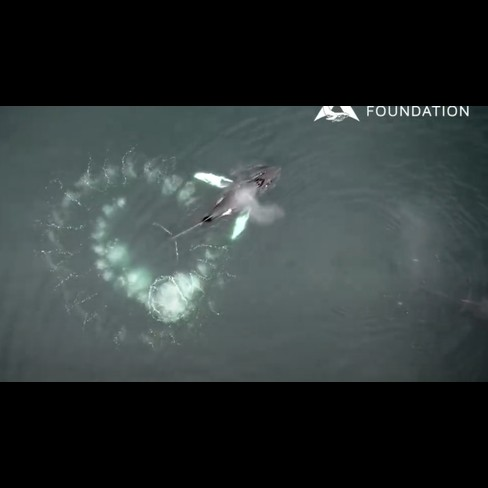hump: (149, 160, 291, 266)
